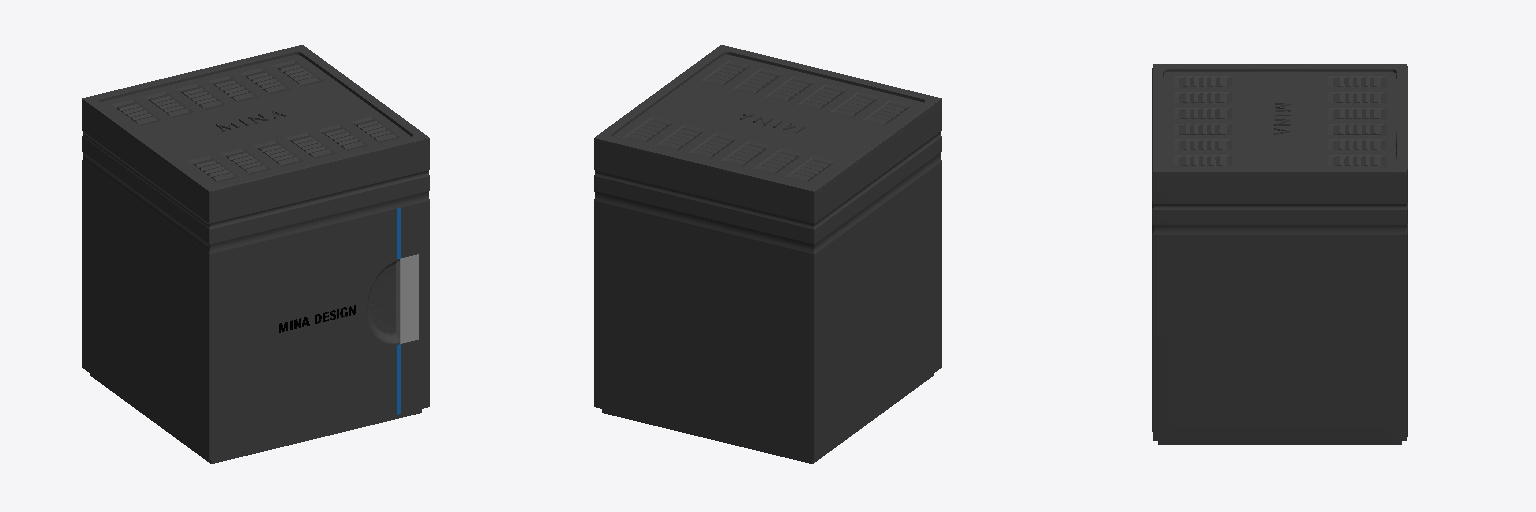
The model's file is printer.obj.
3 views of the same model, side by side, from view 1: azimuth 30°, elevation 25°; view 2: azimuth 150°, elevation 25°; view 3: azimuth 270°, elevation 25° (orthographic).
Parts seen in each view (by area): view 1: gh, xcx; view 2: gh; view 3: gh.
Boxes of the visible parts, x1=… form: gh: x1=82, y1=45, x2=429, y2=463; xcx: x1=396, y1=254, x2=418, y2=343; gh: x1=594, y1=45, x2=941, y2=463; gh: x1=1152, y1=64, x2=1407, y2=444.
Size of the model in its own units: 28 by 33.4 by 28.